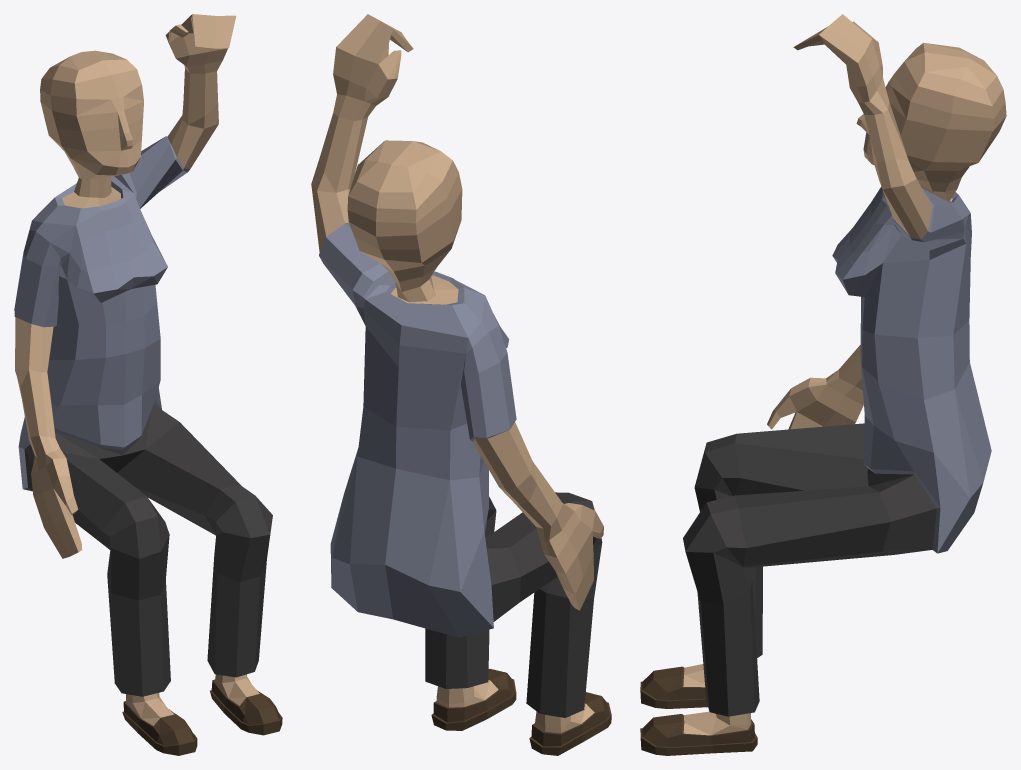
The model's file is Female_Sitting_Cheering.glb.
3 views of the same model, side by side, from view 1: azimuth 30°, elevation 25°; view 2: azimuth 150°, elevation 25°; view 3: azimuth 270°, elevation 25° (orthographic). The views are drawn at different scales.
Parts seen in each view (by area): view 1: Female_Sitting_Cheering; view 2: Female_Sitting_Cheering; view 3: Female_Sitting_Cheering.
Part boxes in pixels (box(x1,y1,x2,y2)): Female_Sitting_Cheering: box(14, 14, 282, 755); Female_Sitting_Cheering: box(311, 14, 611, 755); Female_Sitting_Cheering: box(640, 14, 1006, 755).
Bounding box in the file's own units: 1.08 × 3.26 × 1.47.
